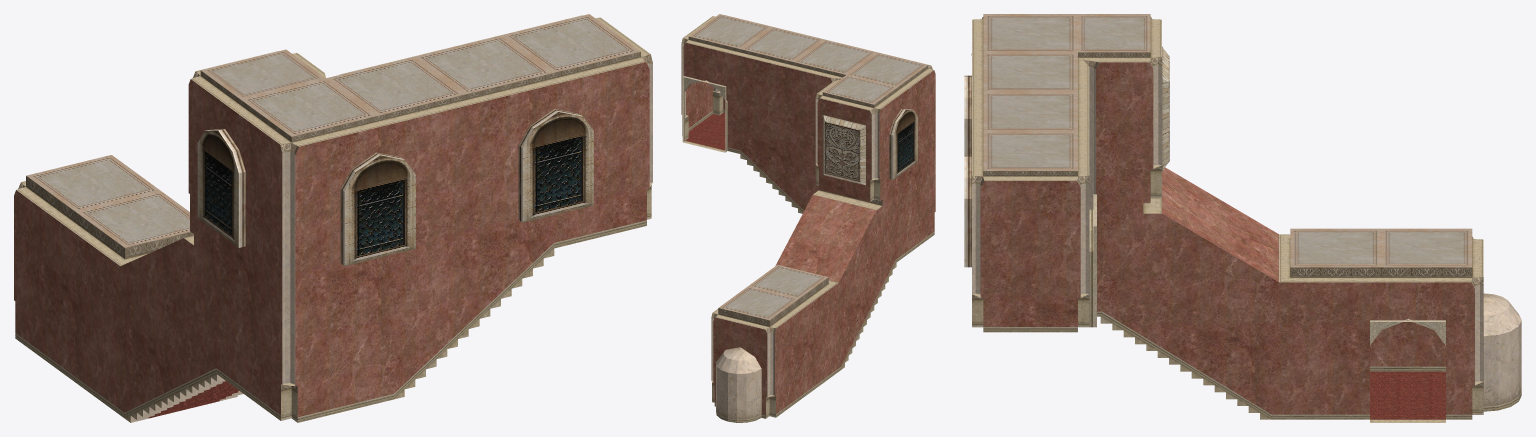
The model's file is ply_nboo_house_m_s01_fp1_r3_stairs_mesh_r3.fbx.
3 views of the same model, side by side, from view 1: azimuth 30°, elevation 25°; view 2: azimuth 150°, elevation 25°; view 3: azimuth 270°, elevation 25° (orthographic). The views are drawn at different scales.
Visible parts, largest first — view 1: mesh_node; view 2: mesh_node; view 3: mesh_node.
Boxes of the visible parts, box(x1,y1,x2,y2) form: mesh_node: box(14, 14, 652, 422); mesh_node: box(681, 14, 935, 422); mesh_node: box(964, 14, 1521, 422).
Bounding box in the file's own units: 10.6 × 10.55 × 14.7.
